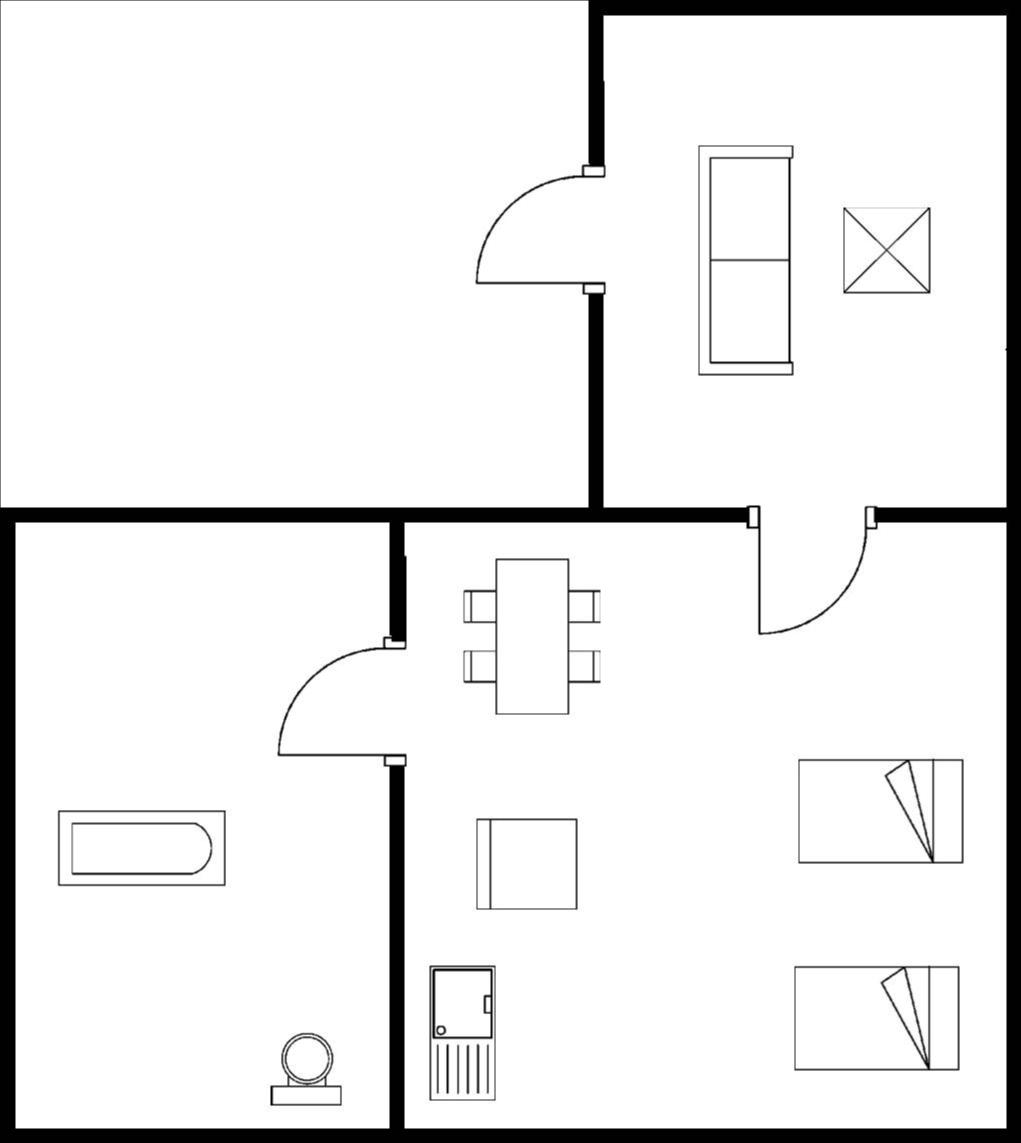bed: (792, 753, 971, 871), (787, 959, 964, 1078)
dining_table: (458, 550, 607, 717)
sink: (422, 957, 502, 1107)
sofa: (687, 135, 798, 381)
toilet: (264, 1027, 346, 1111)
tub: (50, 801, 232, 893)
